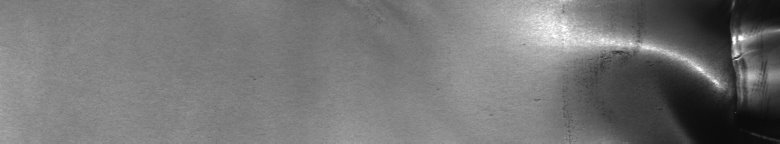ke: (604, 4, 776, 102)
